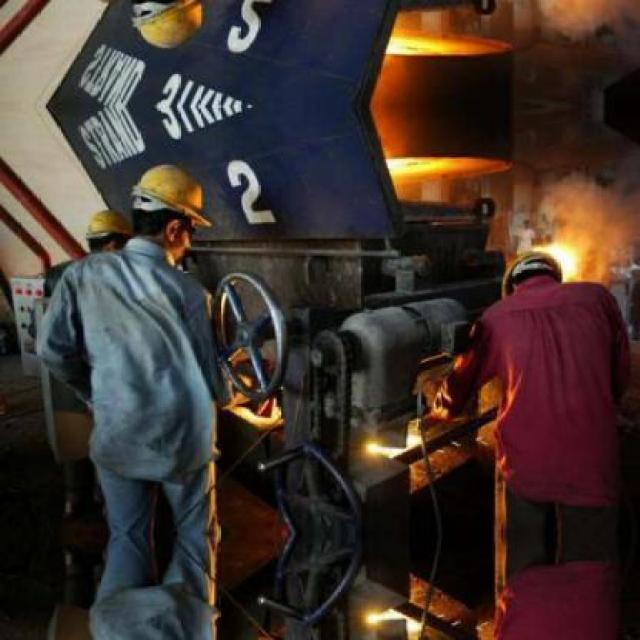hat: (134, 162, 214, 227), (497, 250, 571, 300), (83, 207, 137, 246)
